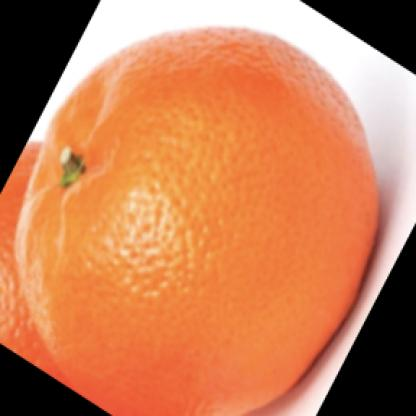fresh: (21, 25, 377, 416)
